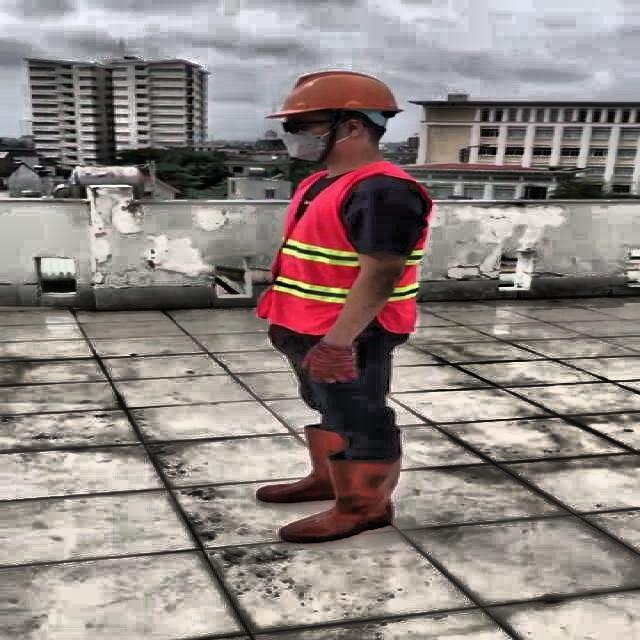safety_helmet: (270, 67, 404, 121)
safety_jacket: (252, 170, 432, 336)
